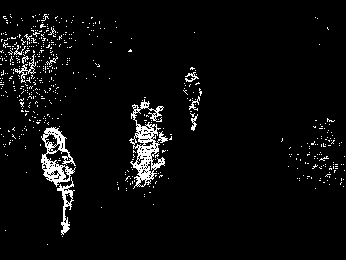person: (39, 130, 82, 237), (183, 64, 204, 131)
